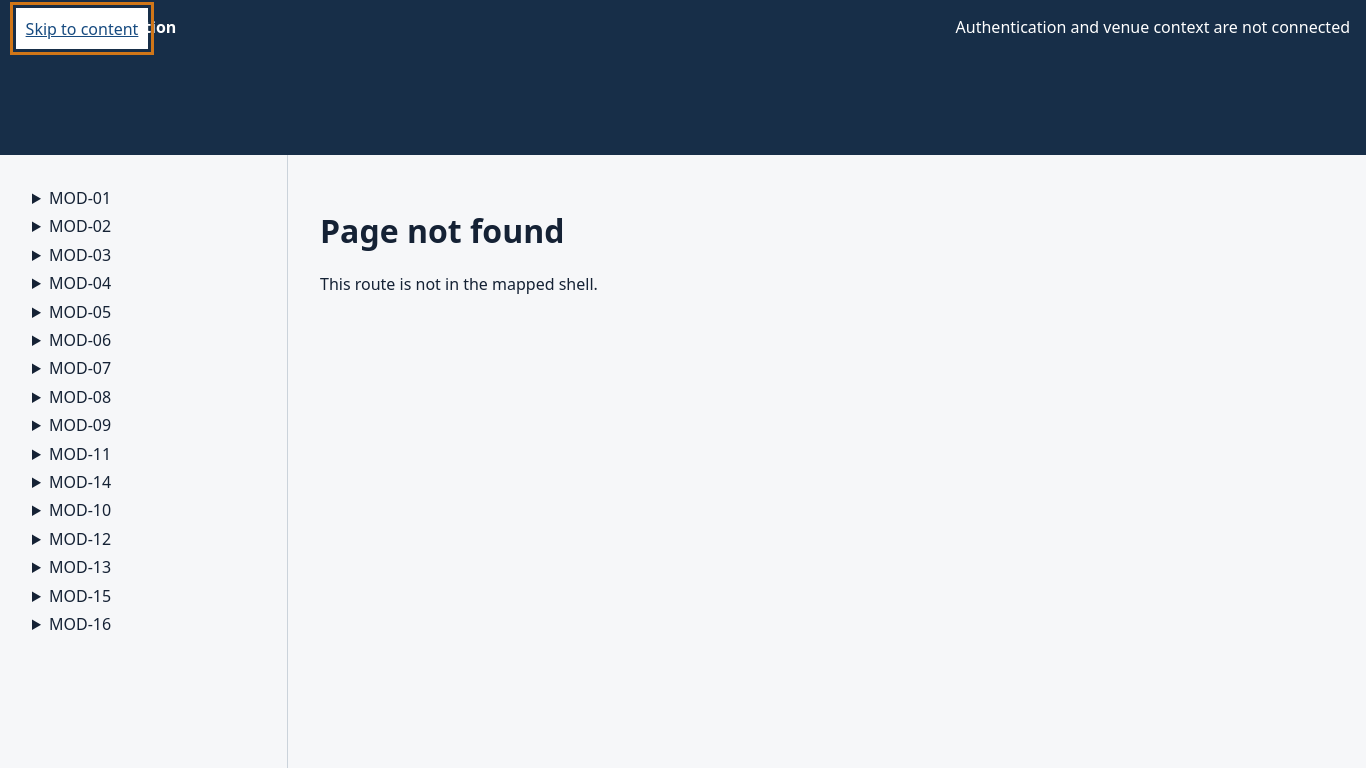
Test case: web shell › renders not found and keyboard reachable navigation
Check: the heading "Page not found" is shown, box [320,208,564,252]
Check: the navigation bar named "Application navigation" is shown, box [0,155,288,767]
Step 1. Click the heading "MOD-01" → [80, 198], box [49,187,111,209]
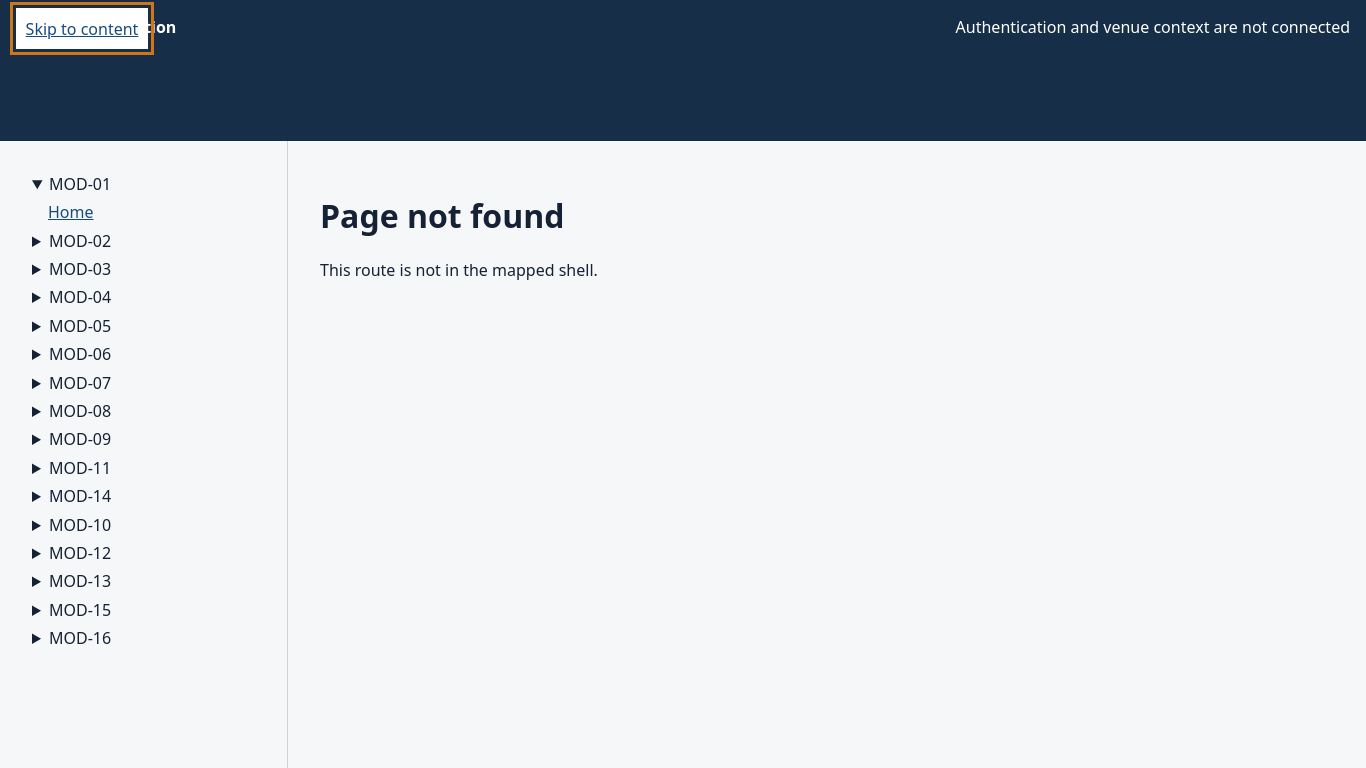
Check: the link "Home" is shown, box [48,201,94,223]
